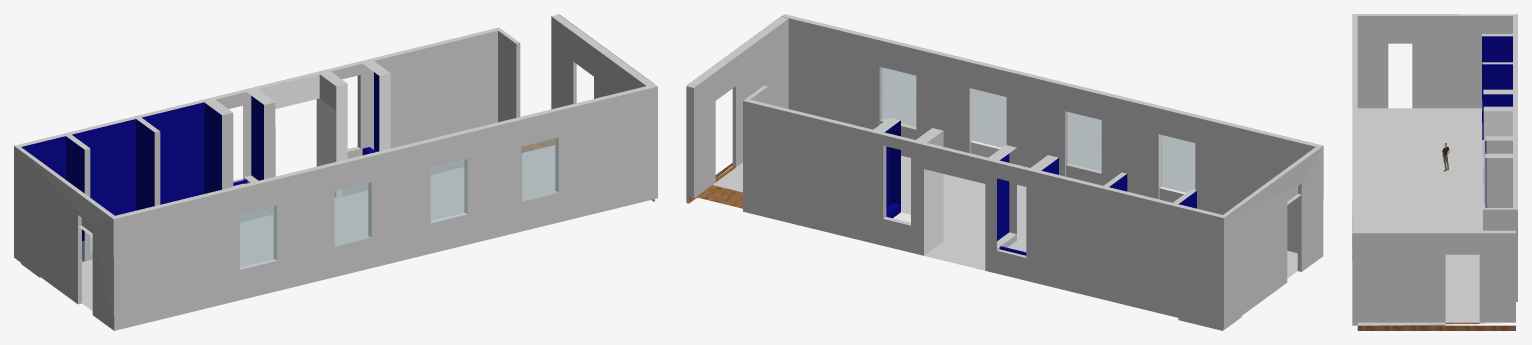
Rendered from cooperHewitt.obj.
3 renders of one model, left to right at view 1: azimuth 30°, elevation 25°; view 2: azimuth 150°, elevation 25°; view 3: azimuth 270°, elevation 25°, orthographic. The views are drawn at different scales.
Visible parts, largest first — view 1: Mesh8 Model, Mesh9 Model; view 2: Mesh8 Model, Mesh9 Model; view 3: Mesh8 Model, Mesh1 Chris1 Model.
Part boxes in pixels (left/top/right/bottom): Mesh8 Model: left=14, top=14, right=657, bottom=330; Mesh9 Model: left=251, top=96, right=263, bottom=180; Mesh8 Model: left=686, top=14, right=1323, bottom=330; Mesh9 Model: left=997, top=153, right=1009, bottom=240; Mesh8 Model: left=1352, top=14, right=1517, bottom=330; Mesh1 Chris1 Model: left=1442, top=143, right=1449, bottom=171.
Bounding box in the file's own units: 1160 × 241 × 371.
12 materials, 3 textured.
